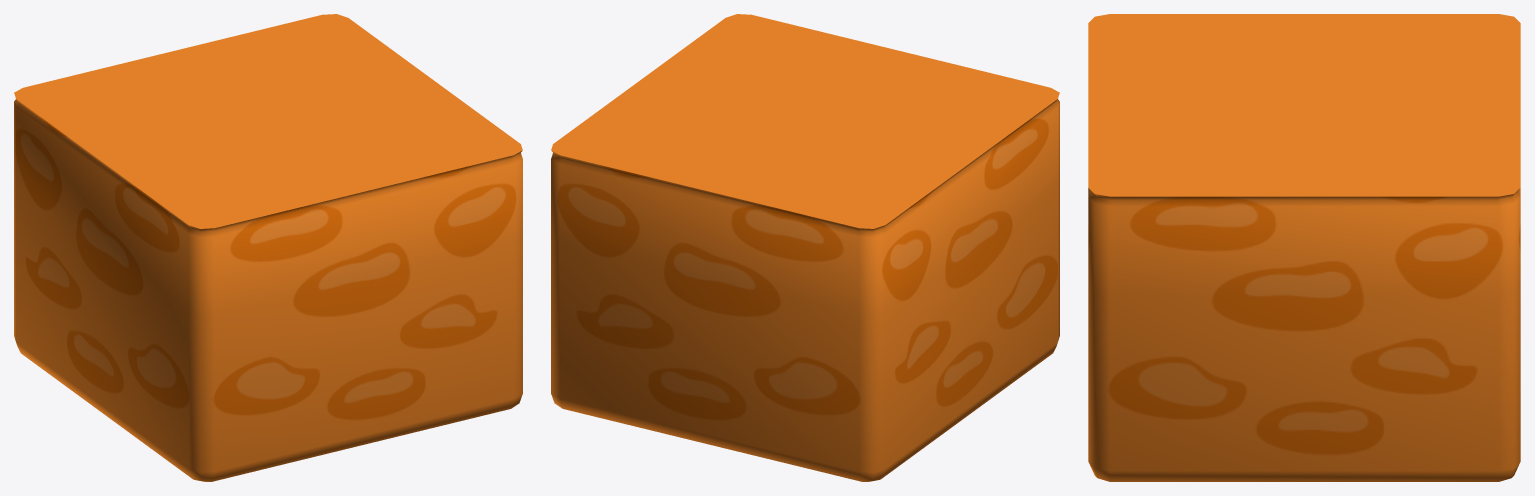
File: 3D_Tile_Socket_Underground_02.fbx
The picture shows the model from 3 angles, left to right: view 1: azimuth 30°, elevation 25°; view 2: azimuth 150°, elevation 25°; view 3: azimuth 270°, elevation 25°; orthographic projection. The views are drawn at different scales.
Visible parts, largest first — view 1: 3D_Tile_Socket_Underground_02; view 2: 3D_Tile_Socket_Underground_02; view 3: 3D_Tile_Socket_Underground_02.
Boxes of the visible parts, x1=… form: 3D_Tile_Socket_Underground_02: x1=14, y1=14, x2=522, y2=481; 3D_Tile_Socket_Underground_02: x1=551, y1=14, x2=1059, y2=481; 3D_Tile_Socket_Underground_02: x1=1088, y1=14, x2=1520, y2=481.
Size of the model in its own units: 200 by 150 by 200.
